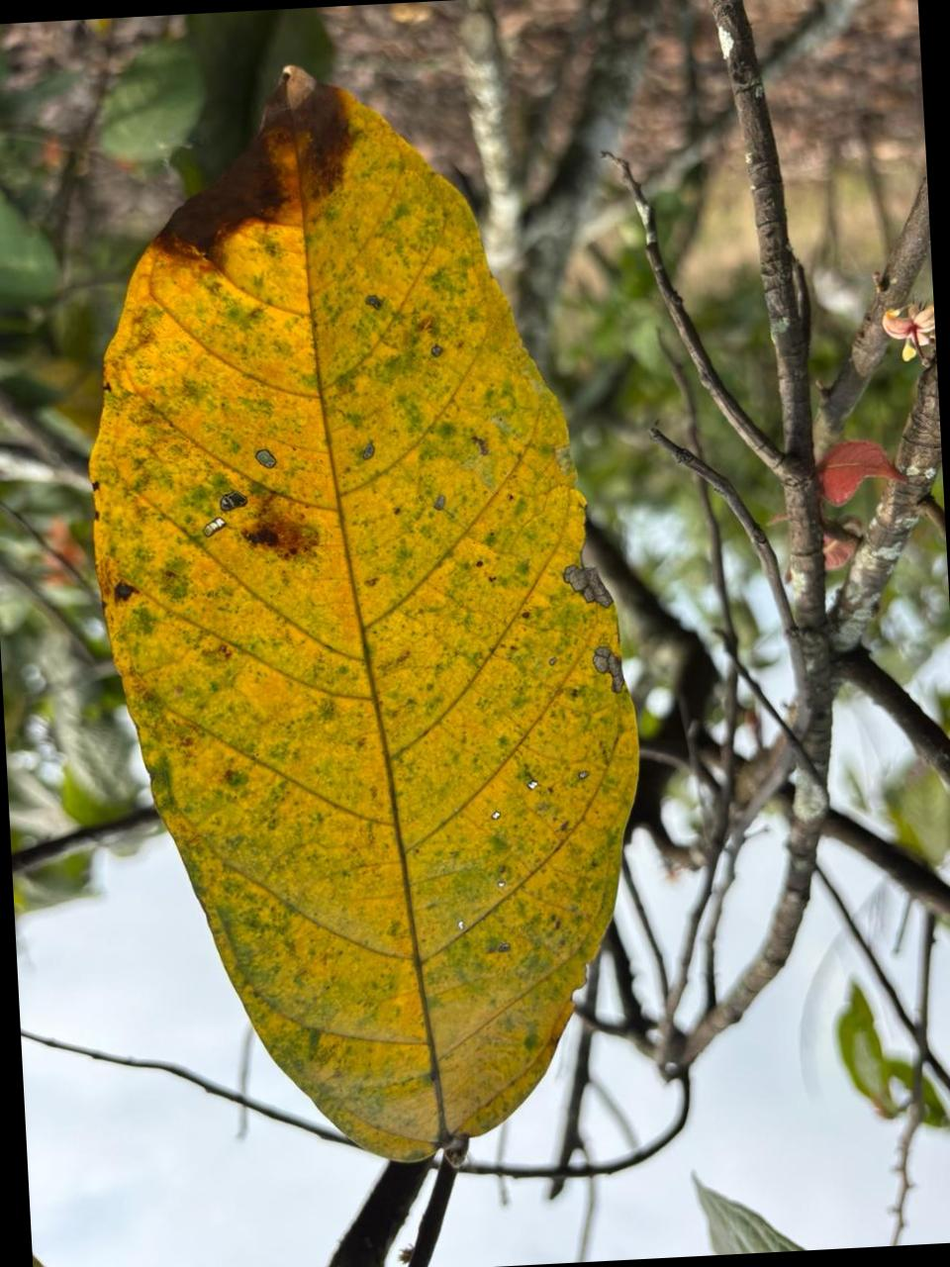Fosforo: (92, 70, 637, 1159)
